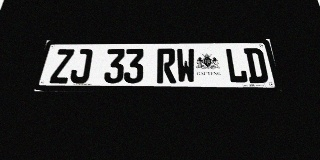3: (103, 49, 125, 83), (123, 49, 144, 83)
D: (243, 48, 269, 83)
J: (69, 49, 93, 83)
L: (224, 48, 249, 83)
R: (157, 48, 176, 83)
W: (176, 48, 196, 83)
Z: (49, 49, 74, 83)
